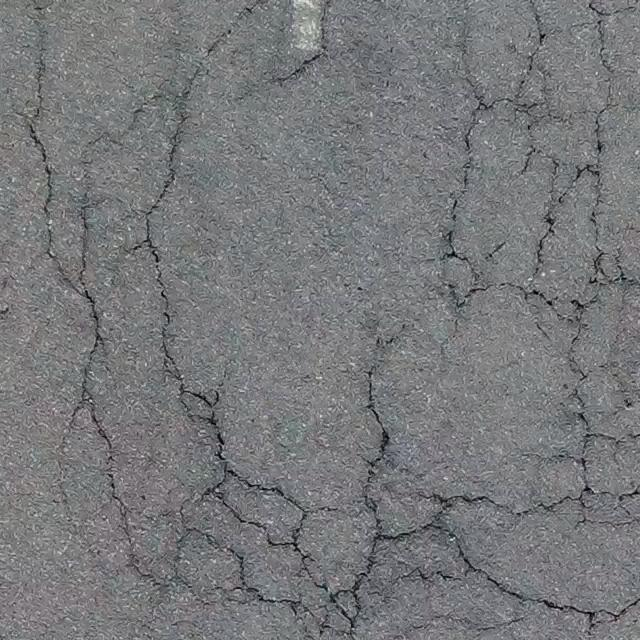GRIETA: (235, 0, 333, 104), (186, 0, 269, 83), (29, 17, 48, 162)
PIEL DE COCODRILO: (39, 0, 639, 639)
